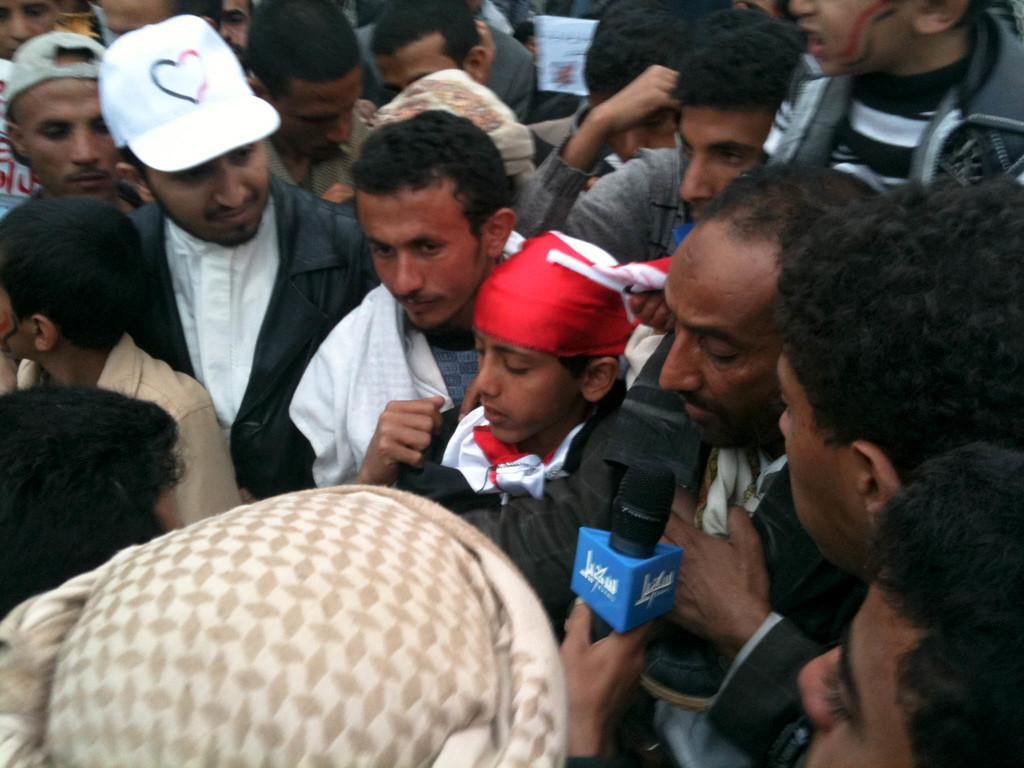Hat: (98, 14, 278, 174), (2, 29, 104, 112)
